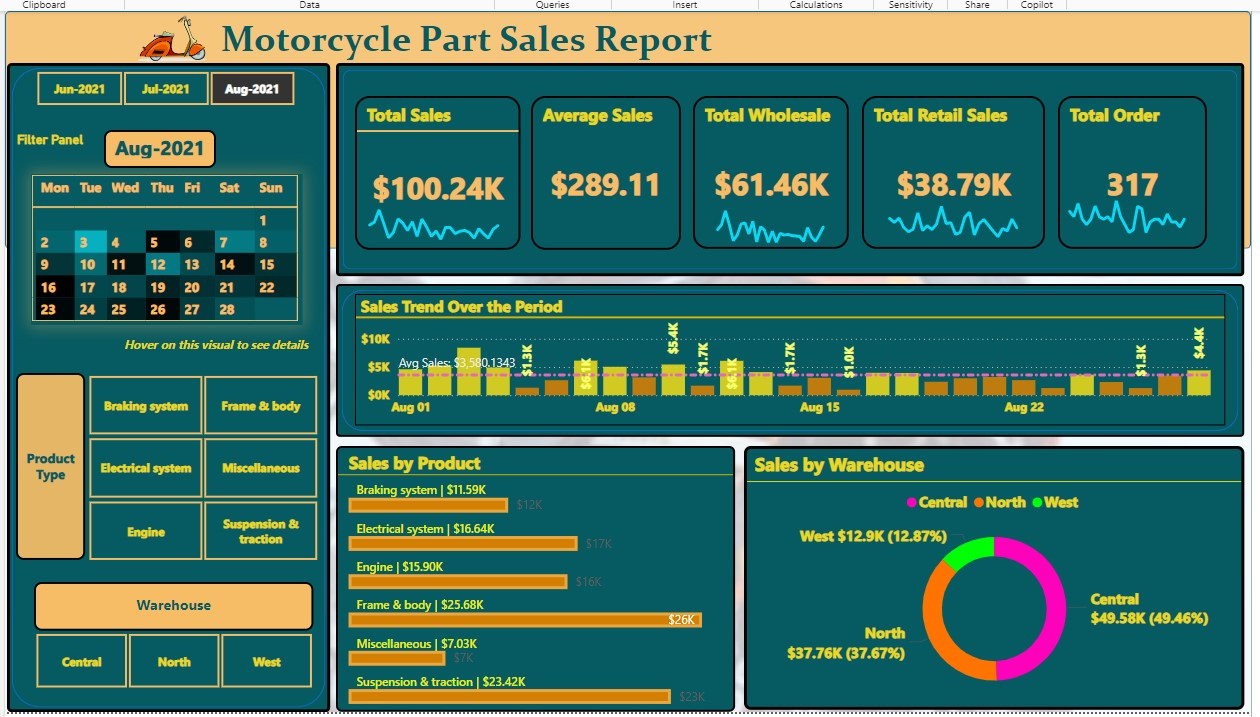

Layout of this report page (visuals, bound fields, positions):
{"tool":"powerbi","page":{"name":"Page 1","canvas":[1280,720],"ordinal":0},"visuals":[{"type":"shape","box":[0,0,1280,244.3],"z":0},{"type":"shape","box":[2,53,332,667],"z":1000},{"type":"textbox","box":[216.4,0,757.5,60.5],"z":2000},{"type":"shape","box":[340,53,933,219],"z":3000},{"type":"card","title":"Total Sales","fields":{"Values":["portfolio_project transaction.Totalsales"]},"box":[360,87,170,158],"z":4000},{"type":"card","title":"Average Sales","fields":{"Values":["Median(portfolio_project transaction.avg_sales)"]},"box":[540,87,154,158],"z":5000},{"type":"card","title":"Total Wholesale","fields":{"Values":["portfolio_project customer.total_wholesale"]},"box":[707,87,160,157],"z":6000},{"type":"card","title":"Total Retail Sales","fields":{"Values":["portfolio_project customer.total_retail"]},"box":[880,87,188,157],"z":7000},{"type":"card","title":"Total Order","fields":{"Values":["CountNonNull(portfolio_project transaction.order_number)"]},"box":[1082,87,153,157],"z":8000},{"type":"slicer","fields":{"Values":["portfolio_project transaction.FormattedDate"]},"box":[11.2,60,306.2,40],"z":9000},{"type":"pivotTable","fields":{"Rows":["portfolio_project date2.WEEK#"],"Columns":["portfolio_project date2.DayName"],"Values":["Min(portfolio_project date2.DayNumber)"]},"box":[27,167,279,155],"z":10000},{"type":"card","fields":{"Values":["Min(portfolio_project date2.mon-year)"]},"box":[101.2,122.5,115,38.8],"z":11000},{"type":"card","fields":{"Values":["portfolio_project transaction.Foot Note"]},"box":[116,331,201,29],"z":12000},{"type":"slicer","fields":{"Values":["portfolio_project proudct_types.product_line"]},"box":[66,373,274,193],"z":13000},{"type":"card","fields":{"Values":["portfolio_project customer.product note"]},"box":[11,372,71,192],"z":14000},{"type":"slicer","fields":{"Values":["portfolio_project transaction.warehouse"]},"box":[11,638,323,59],"z":15000},{"type":"card","fields":{"Values":["portfolio_project customer.warehouse note"]},"box":[30,587,287,50],"z":16000},{"type":"shape","box":[340,280,933,157],"z":17000},{"type":"columnChart","title":"Sales Trend Over the Period","fields":{"Y":["Sum(portfolio_project transaction.total_sales)"],"Category":["portfolio_project transaction.date Hierarchy.date"]},"box":[360,291,894,135],"z":18000},{"type":"donutChart","title":"Sales by Warehouse","fields":{"Y":["portfolio_project transaction.Totalsales"],"Category":["portfolio_project customer.warehouse"]},"box":[758.7,446.8,514.3,271.1],"z":19000},{"type":"clusteredBarChart","title":"Sales by Product","fields":{"Category":["portfolio_project proudct_types.product_line"],"Y":["portfolio_project transaction.productorder","portfolio_project transaction.Totalsales"]},"box":[340,447,410,273],"z":20000},{"type":"lineChart","fields":{"Category":["portfolio_project transaction.date Hierarchy.date"],"Y":["portfolio_project transaction.Totalsales"]},"box":[359.6,183.9,161.7,60.5],"z":21000},{"type":"lineChart","fields":{"Category":["portfolio_project transaction.date Hierarchy.date"],"Y":["portfolio_project customer.total_wholesale"]},"box":[716.8,183.9,138.5,60.5],"z":22000},{"type":"lineChart","fields":{"Category":["portfolio_project transaction.date Hierarchy.date"],"Y":["portfolio_project customer.total_retail"]},"box":[893.7,183.9,160.6,60.5],"z":23000},{"type":"lineChart","fields":{"Category":["portfolio_project transaction.date Hierarchy.date"],"Y":["portfolio_project customer.TotalOrders"]},"box":[1078.7,175.7,147.8,60.5],"z":24000},{"type":"textbox","box":[11.6,122.2,69.8,45.4],"z":24001},{"type":"image","box":[64,0,216.4,57],"z":24002}]}

Visuals, with their boxes in screenshot pixels (x1, y1, x2, y2):
shape: (0,7,1243,244)
shape: (2,58,324,706)
textbox: (210,7,945,65)
shape: (330,58,1236,271)
"Total Sales" card: (349,91,515,244)
"Average Sales" card: (524,91,674,244)
"Total Wholesale" card: (686,91,842,243)
"Total Retail Sales" card: (854,91,1037,243)
"Total Order" card: (1050,91,1199,243)
slicer - portfolio_project transaction.FormattedDate: (11,65,308,104)
pivotTable - portfolio_project date2.WEEK# x portfolio_project date2.DayName: (26,169,297,319)
card - Min(portfolio_project date2.mon-year): (98,125,210,163)
card - portfolio_project transaction.Foot Note: (113,328,308,356)
slicer - portfolio_project proudct_types.product_line: (64,369,330,556)
card - portfolio_project customer.product note: (11,368,80,554)
slicer - portfolio_project transaction.warehouse: (11,626,324,683)
card - portfolio_project customer.warehouse note: (29,576,308,625)
shape: (330,278,1236,431)
"Sales Trend Over the Period" columnChart: (349,289,1217,420)
"Sales by Warehouse" donutChart: (737,440,1236,703)
"Sales by Product" clusteredBarChart: (330,440,728,706)
lineChart - portfolio_project transaction.date Hierarchy.date x portfolio_project transaction.Totalsales: (349,185,506,244)
lineChart - portfolio_project transaction.date Hierarchy.date x portfolio_project customer.total_wholesale: (696,185,830,244)
lineChart - portfolio_project transaction.date Hierarchy.date x portfolio_project customer.total_retail: (868,185,1023,244)
lineChart - portfolio_project transaction.date Hierarchy.date x portfolio_project customer.TotalOrders: (1047,177,1191,236)
textbox: (11,125,79,169)
image: (62,7,272,62)
